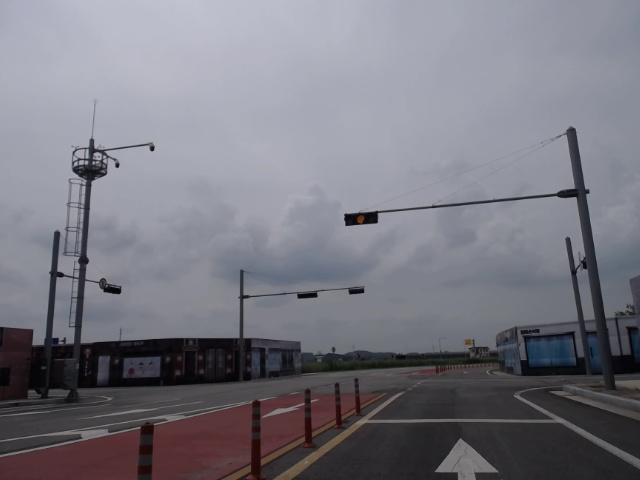orange_3: (345, 211, 378, 227)
